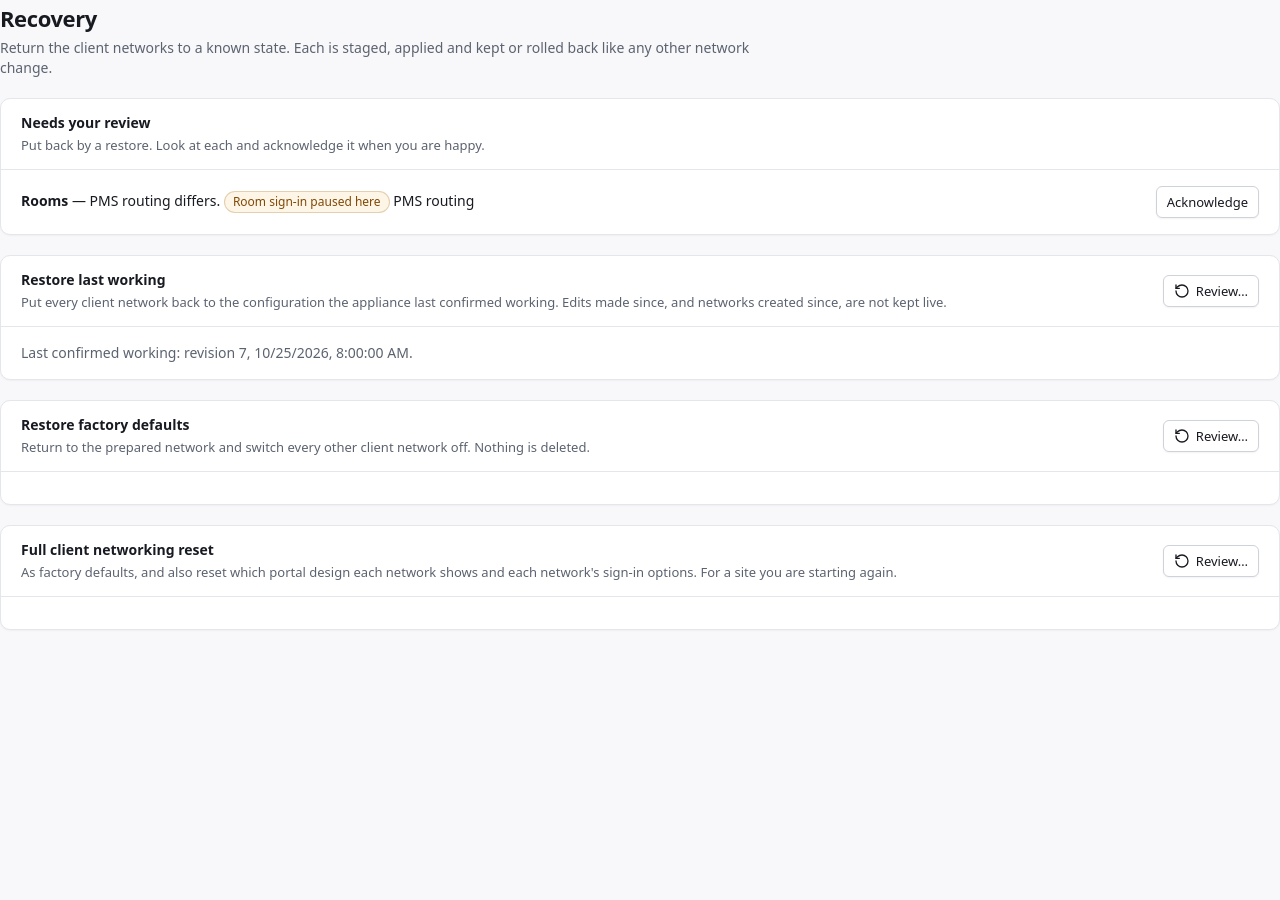
it: recovery page › will not stage a recovery that cannot be done completely
Expected: the text "Last confirmed working: revision 7, 10/25/2026, 8:00:00 AM." is shown, [21,343,413,362]
What coordinates should you click on to do the following:
click the button "Review…" in the row of "Restore last working"
I would click on:
 (1211, 291)
Its box is [1163,275,1259,307].
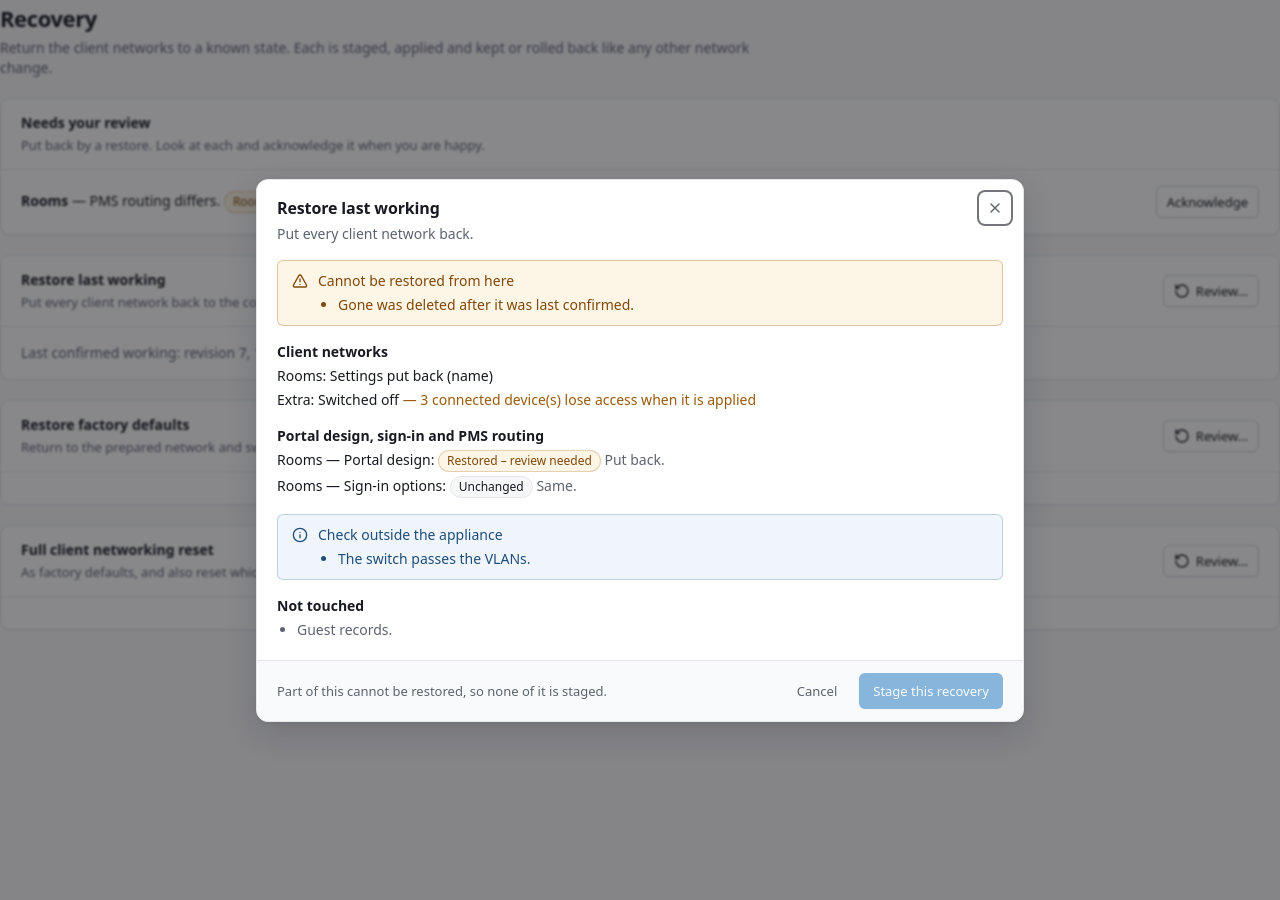
Result: the text "Cannot be restored from here" is shown at [318,270,514,290]
Result: the button "Stage this recovery" is disabled at [859,672,1003,708]
